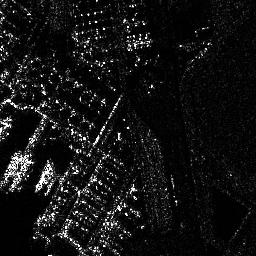ship: (9, 155, 32, 193), (1, 149, 22, 189), (33, 158, 55, 192)
